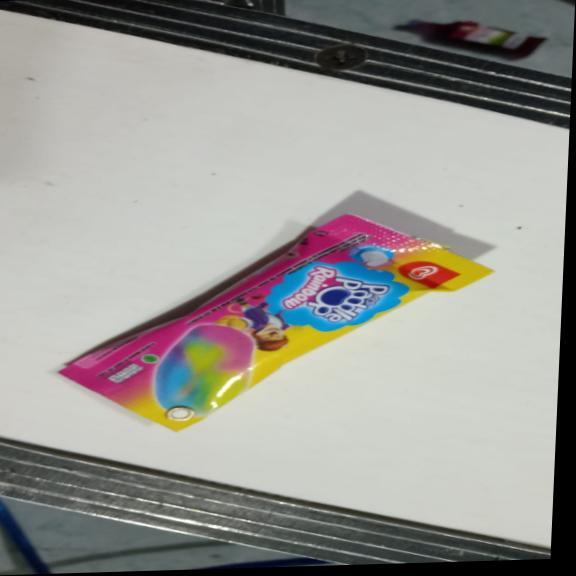Plastik: (53, 207, 495, 436)
